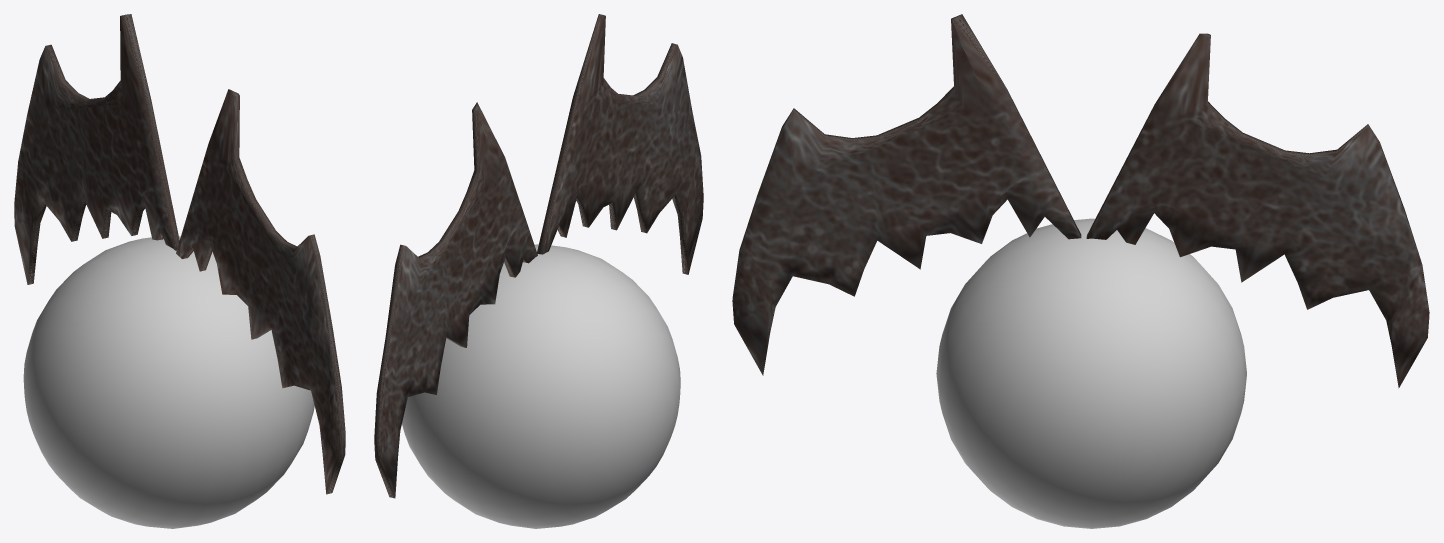
The model's file is BatwingEyeball.fbx.
The picture shows the model from 3 angles, left to right: view 1: azimuth 30°, elevation 25°; view 2: azimuth 150°, elevation 25°; view 3: azimuth 270°, elevation 25°; orthographic projection. The views are drawn at different scales.
Parts seen in each view (by area): view 1: Eyeball, Wing, Wing.001; view 2: Eyeball, Wing, Wing.001; view 3: Eyeball, Wing.001, Wing.
Part boxes in pixels (x1=…): Eyeball: x1=23, y1=236, x2=314, y2=528; Wing: x1=14, y1=14, x2=179, y2=284; Wing.001: x1=176, y1=89, x2=345, y2=494; Eyeball: x1=402, y1=244, x2=680, y2=528; Wing: x1=374, y1=102, x2=537, y2=498; Wing.001: x1=537, y1=14, x2=703, y2=274; Eyeball: x1=936, y1=218, x2=1246, y2=528; Wing.001: x1=732, y1=14, x2=1081, y2=375; Wing: x1=1086, y1=33, x2=1429, y2=388.
Bounding box in the file's own units: 200 × 354 × 449.
